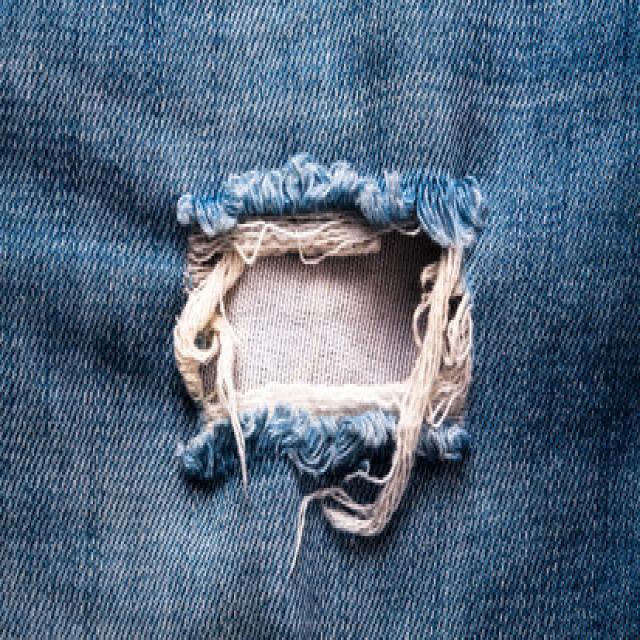Hole: (163, 138, 490, 543), (228, 148, 493, 182)
